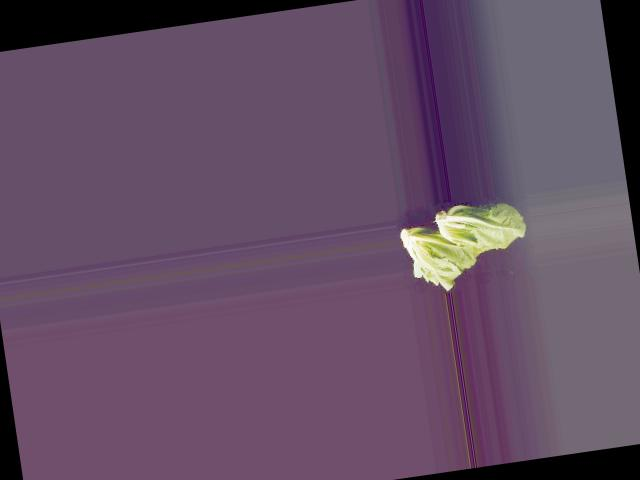lettuce: (398, 207, 495, 295)
